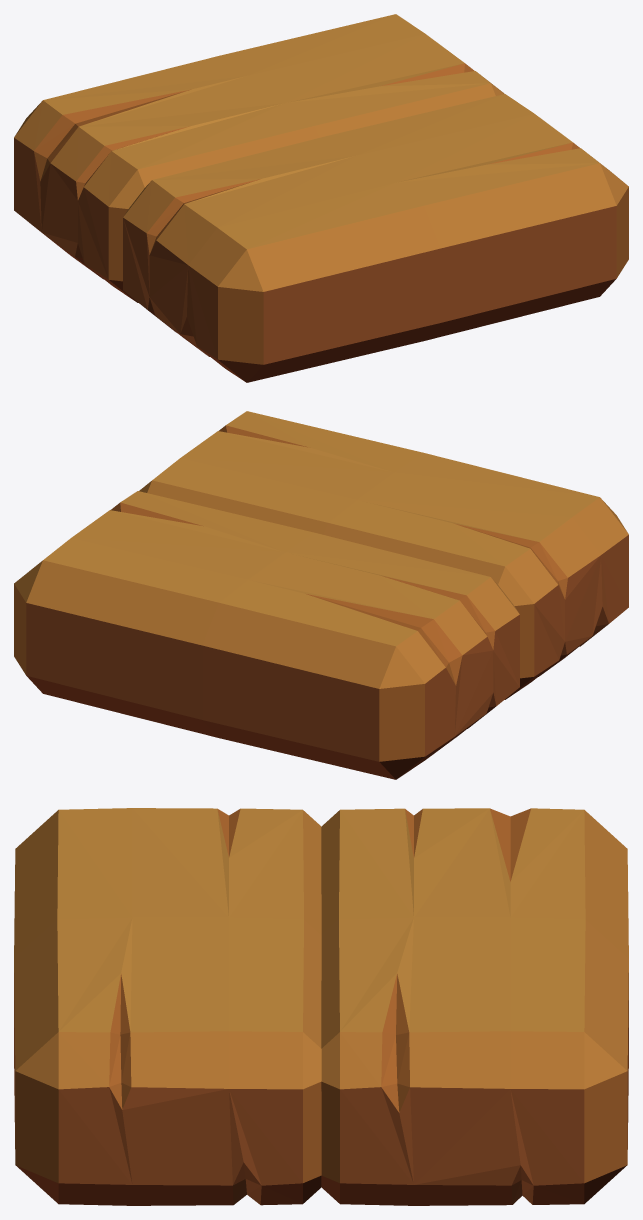
File: m_kub_wood_floorTwoBrick.FBX
3 renders of one model, top to bottom at view 1: azimuth 30°, elevation 25°; view 2: azimuth 150°, elevation 25°; view 3: azimuth 270°, elevation 25°, orthographic. The views are drawn at different scales.
Parts seen in each view (by area): view 1: m_kub_wood_floorTwoBrick; view 2: m_kub_wood_floorTwoBrick; view 3: m_kub_wood_floorTwoBrick.
Part boxes in pixels (bbox=[...]): m_kub_wood_floorTwoBrick: bbox=[14, 14, 628, 382]; m_kub_wood_floorTwoBrick: bbox=[14, 411, 628, 779]; m_kub_wood_floorTwoBrick: bbox=[14, 808, 628, 1205].
Size of the model in its own units: 2.2 by 0.7 by 2.18.
